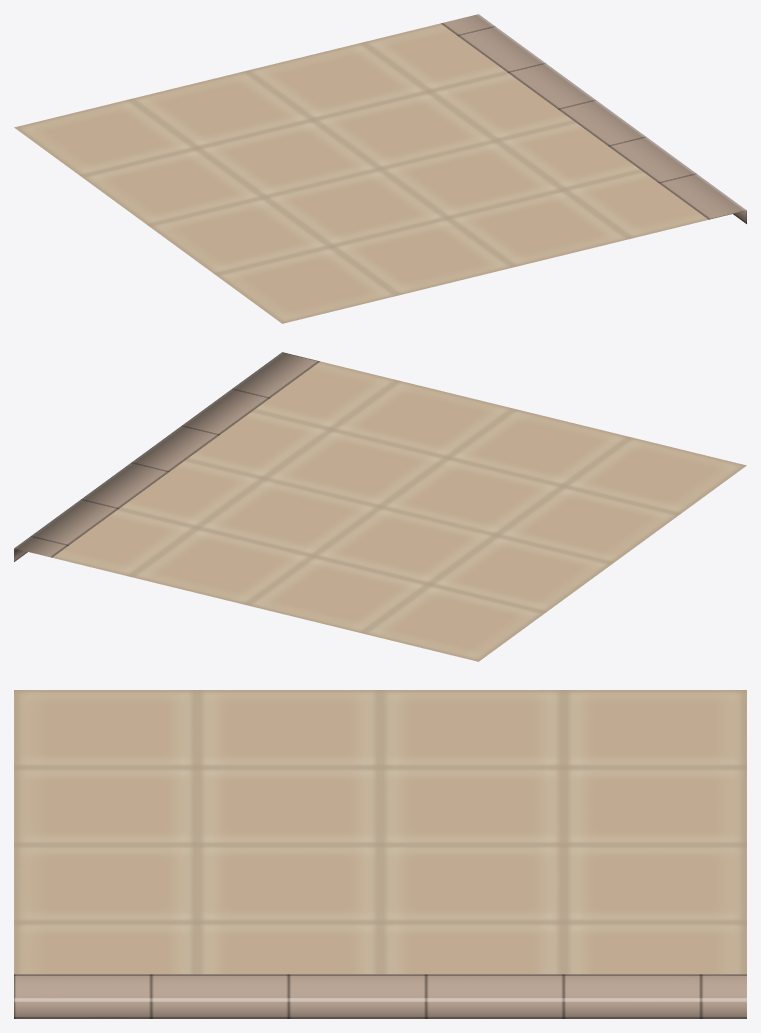
The model's file is Sidewalk_Edge.fbx.
3 renders of one model, top to bottom at view 1: azimuth 30°, elevation 25°; view 2: azimuth 150°, elevation 25°; view 3: azimuth 270°, elevation 25°, orthographic. The views are drawn at different scales.
Visible parts, largest first — view 1: Sidewalk_Edge; view 2: Sidewalk_Edge; view 3: Sidewalk_Edge.
Boxes of the visible parts, x1,y1,x2,y2 form: Sidewalk_Edge: (14, 14, 746, 323); Sidewalk_Edge: (14, 352, 746, 661); Sidewalk_Edge: (14, 690, 746, 1018).
Bounding box in the file's own units: 400 × 11.49 × 400.
